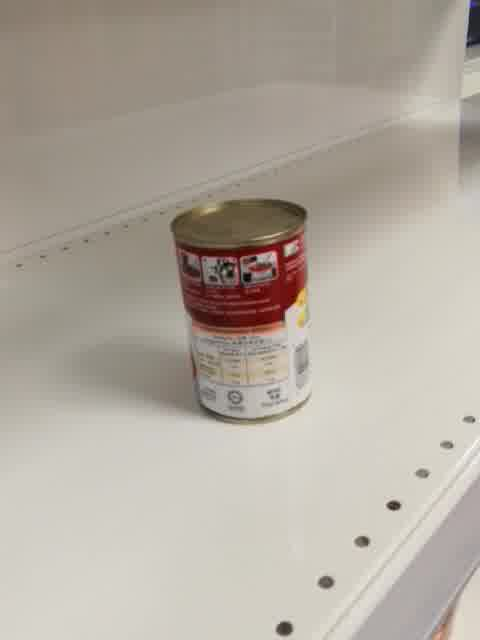tomatosoup: (169, 197, 314, 427)
